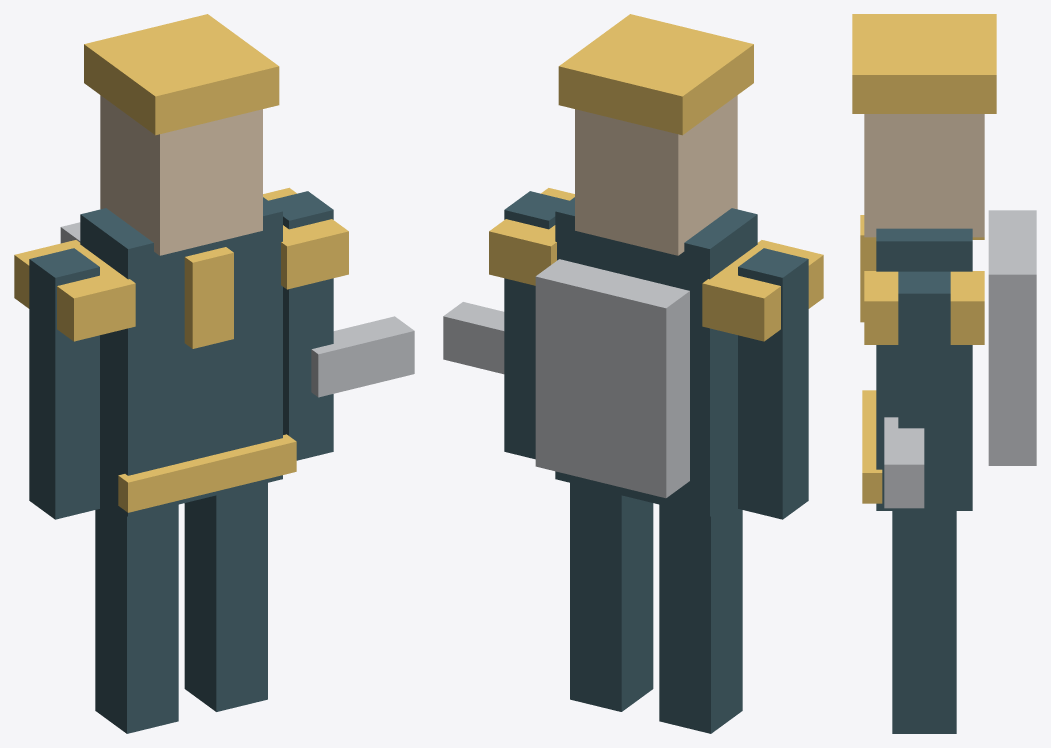
The model's file is 02_soren_gearmantle_tamer_near_hall.glb.
3 views of the same model, side by side, from view 1: azimuth 30°, elevation 25°; view 2: azimuth 150°, elevation 25°; view 3: azimuth 270°, elevation 25° (orthographic).
Parts seen in each view (by area): view 1: Soren Gearmantle, Tamer near Hall; view 2: Soren Gearmantle, Tamer near Hall; view 3: Soren Gearmantle, Tamer near Hall.
Part boxes in pixels (x1,y1,x2,y2): Soren Gearmantle, Tamer near Hall: (14, 14, 414, 733); Soren Gearmantle, Tamer near Hall: (443, 14, 823, 733); Soren Gearmantle, Tamer near Hall: (852, 14, 1036, 733).
Size of the model in its own units: 0.9609 by 1.69 by 0.4312.
